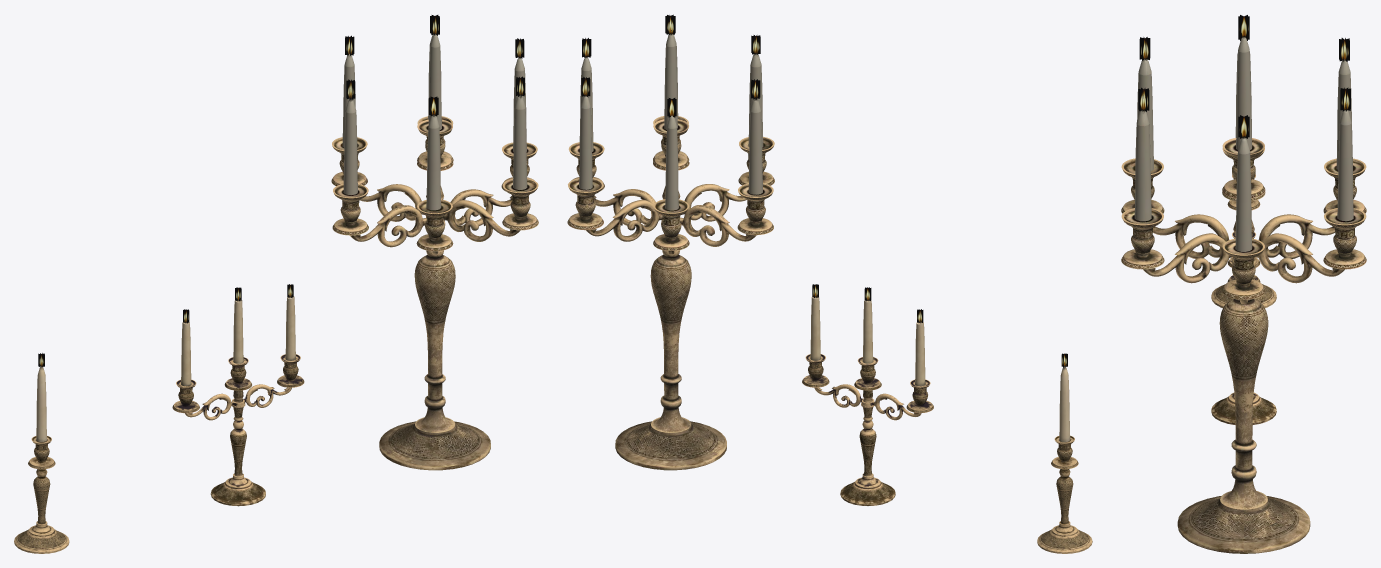
The model's file is brass_candleholders.glb.
3 views of the same model, side by side, from view 1: azimuth 30°, elevation 25°; view 2: azimuth 150°, elevation 25°; view 3: azimuth 270°, elevation 25° (orthographic). The views are drawn at different scales.
Parts seen in each view (by area): view 1: brass_candleholder_03, brass_candleholder_02, brass_candleholder_01; view 2: brass_candleholder_03, brass_candleholder_02, brass_candleholder_01; view 3: brass_candleholder_03, brass_candleholder_02, brass_candleholder_01.
Part boxes in pixels (x1,y1,x2,y2): brass_candleholder_03: [38, 15, 538, 470]; brass_candleholder_02: [172, 295, 304, 506]; brass_candleholder_01: [14, 366, 69, 553]; brass_candleholder_03: [567, 14, 1067, 470]; brass_candleholder_02: [802, 296, 933, 505]; brass_candleholder_01: [1037, 363, 1092, 553]; brass_candleholder_03: [1121, 15, 1366, 553]; brass_candleholder_02: [1211, 232, 1276, 424]; brass_candleholder_01: [1211, 174, 1276, 307].
Bounding box in the file's own units: 1.05 × 0.8353 × 0.3647.
5 materials, 5 textured.
